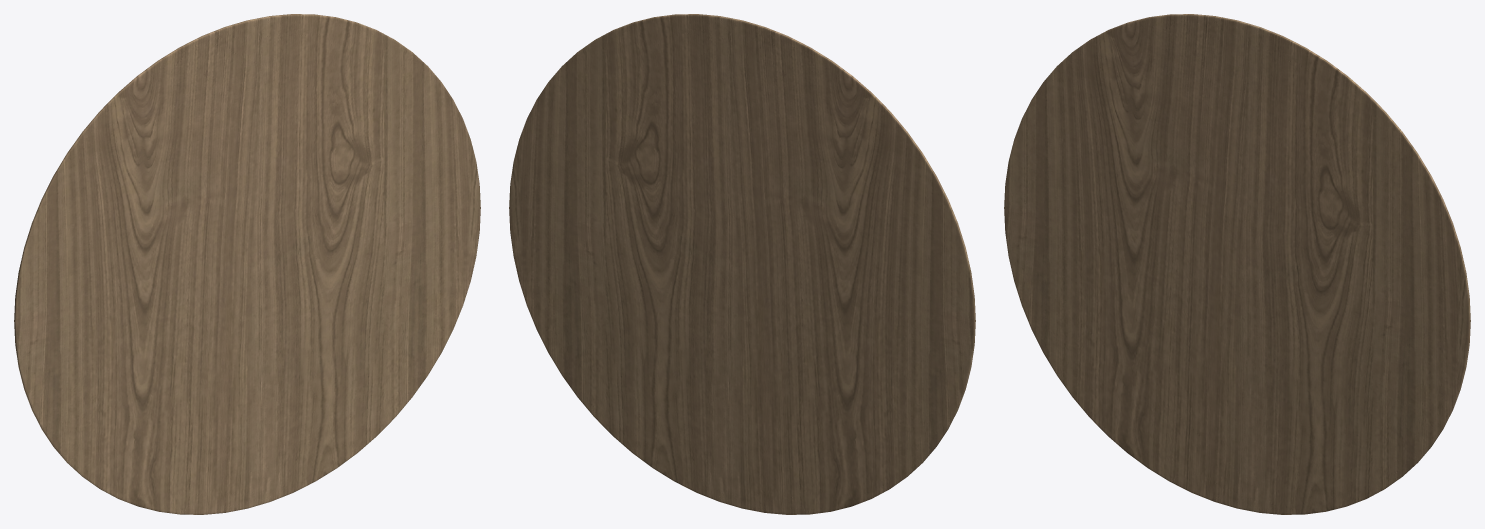
The model's file is l115_wood_button.fbx.
The picture shows the model from 3 angles, left to right: view 1: azimuth 30°, elevation 25°; view 2: azimuth 150°, elevation 25°; view 3: azimuth 330°, elevation 25°; orthographic projection.
Visible parts, largest first — view 1: L115_wood_button; view 2: L115_wood_button; view 3: L115_wood_button.
Boxes of the visible parts, <box> form: L115_wood_button: <box>14,14,480,514</box>; L115_wood_button: <box>509,14,975,514</box>; L115_wood_button: <box>1004,14,1470,514</box>.
Size of the model in its own units: 0.4 by 0.4 by 0.002.
Materials: 1 (1 with a texture image).
